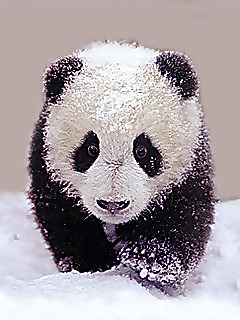panda: (27, 37, 219, 293)
